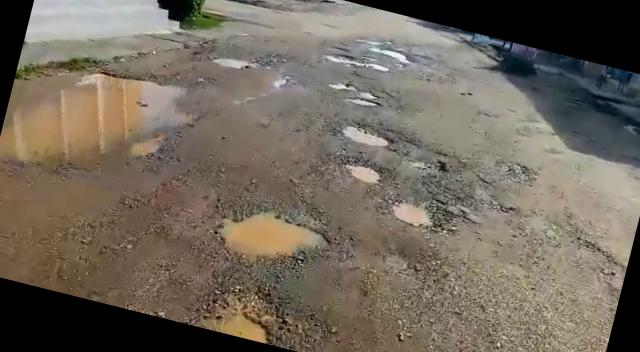pothole: (0, 48, 200, 205), (207, 196, 342, 282), (202, 288, 290, 348), (340, 120, 395, 152), (338, 154, 388, 188), (322, 49, 384, 75), (388, 196, 435, 228), (210, 50, 254, 72), (376, 44, 413, 62), (349, 93, 386, 111)
